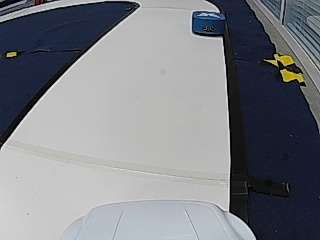prop: (192, 11, 226, 36)
